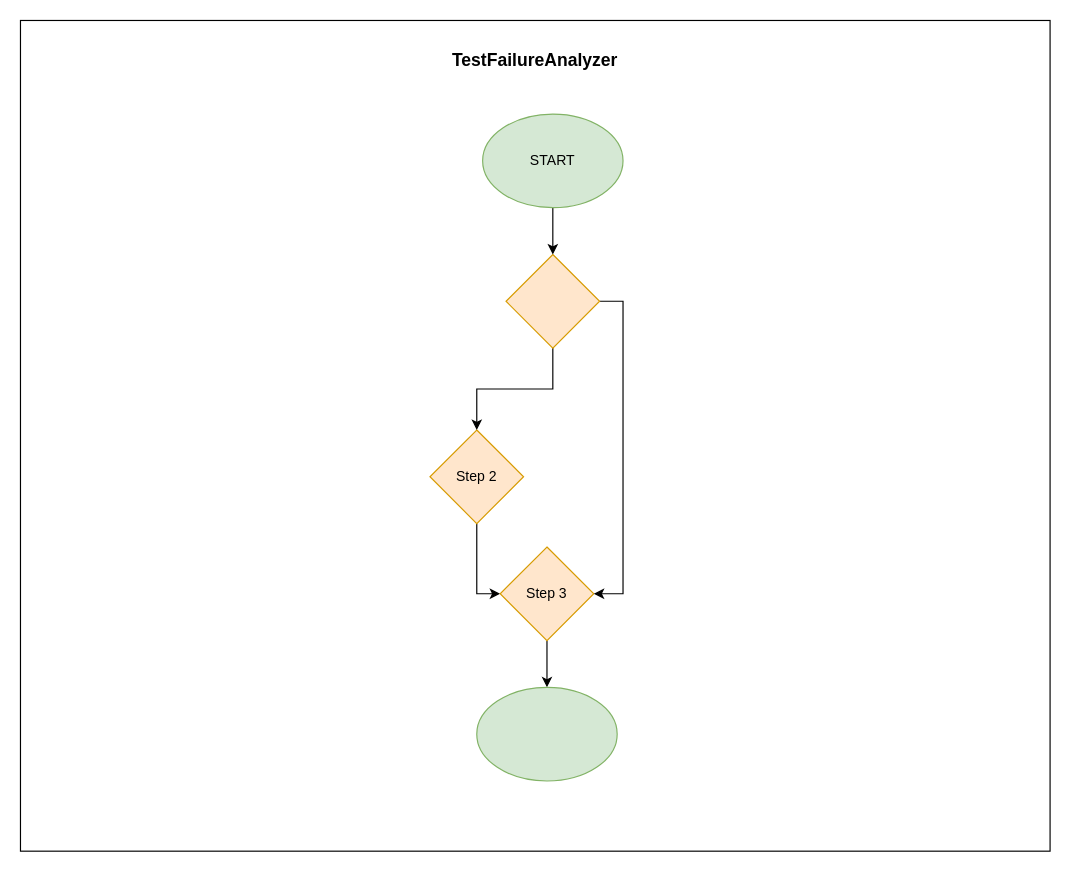
The diagram is 1071 pixels wide and 872 high, and some of its shapes have lost their labels. The shapes that lost their labels are listed below. From the top down, each one's centre as x and y in pixels, then its label:
At pixel 552 300: "Step 1".
At pixel 546 733: "Orchestrator".
